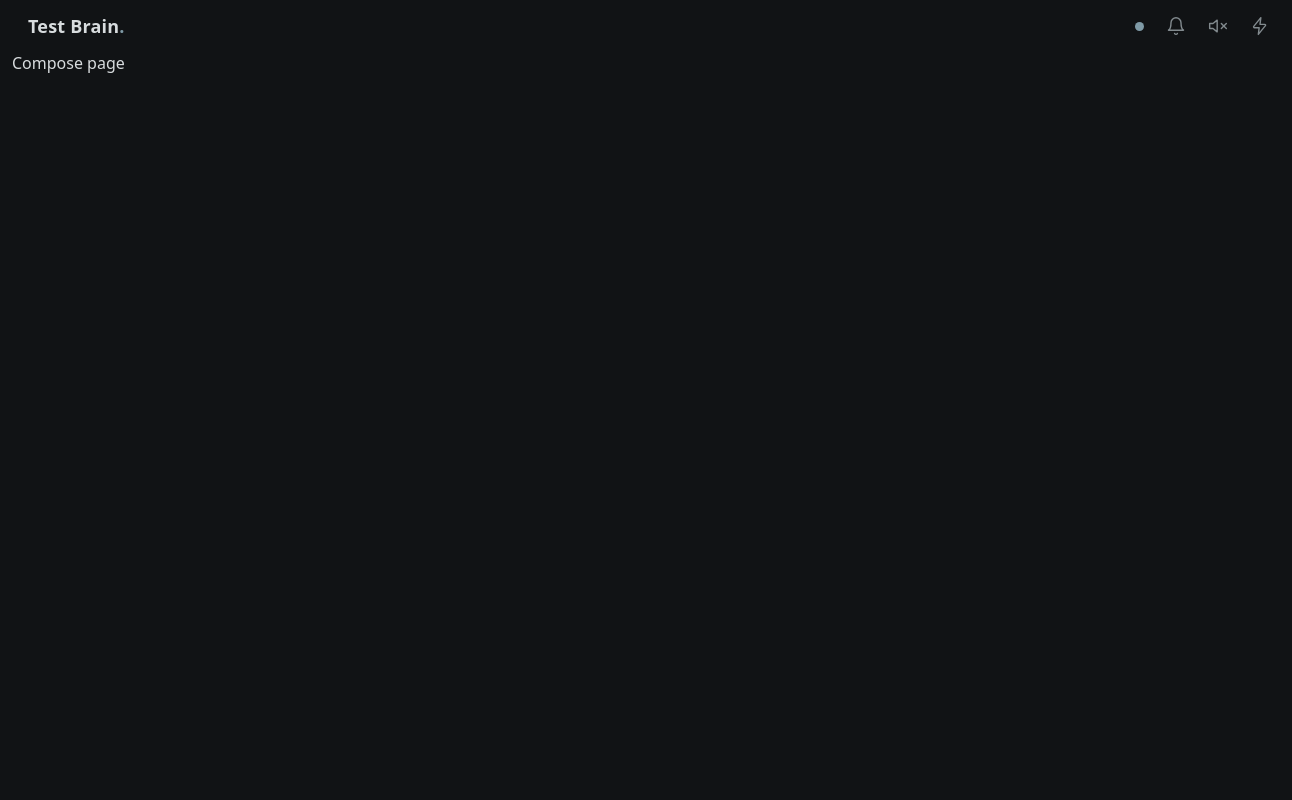
Test case: Shell — Advanced launcher navigation › the bolt navigates to /advanced and the grouped launcher grid renders
Expected: the text with test id "page" reads "Compose page", [12, 52, 125, 74]
Click the 3rd button with class "bolt": (1260, 26) [1244, 10, 1276, 42]
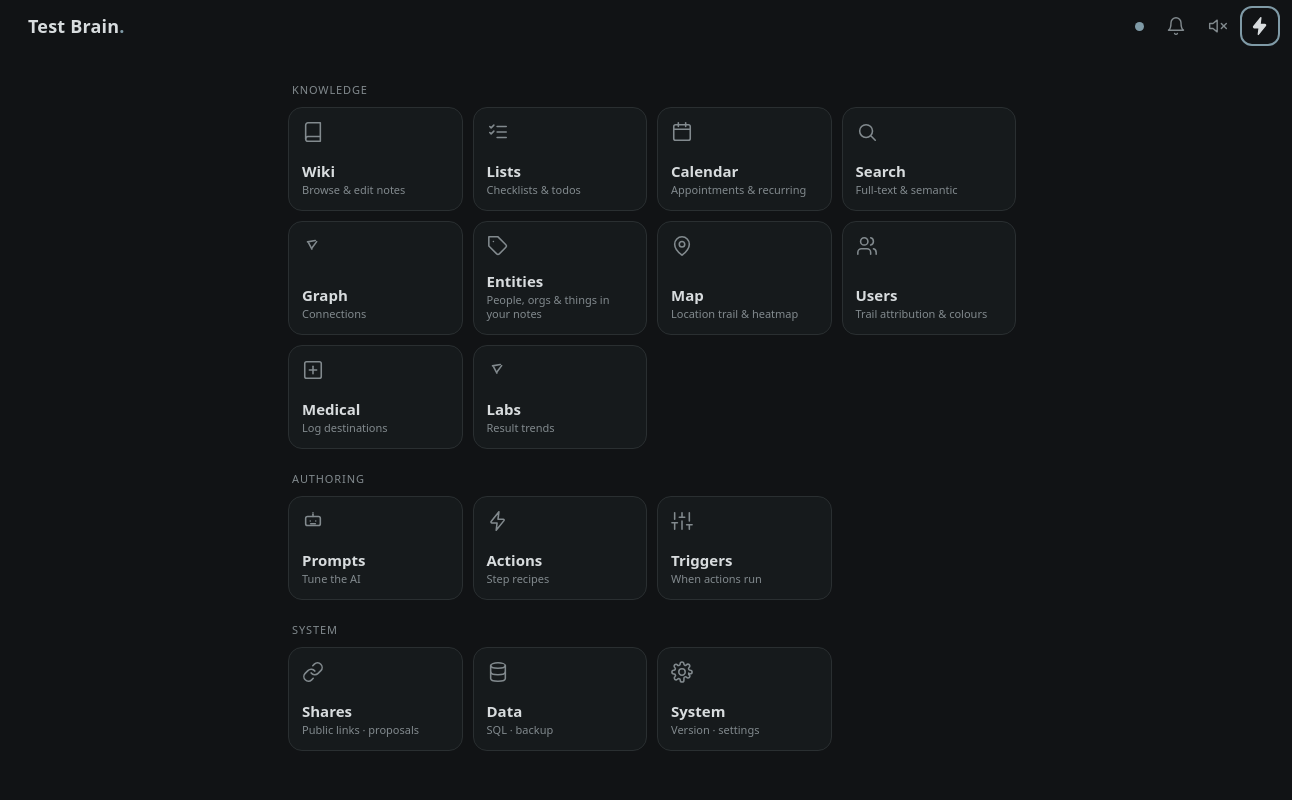
Expected: the text "Knowledge" is shown, [292, 82, 368, 97]
Expected: the button "Wiki Browse & edit notes" is shown, [288, 107, 462, 211]
Expected: the button "Triggers When actions run" is shown, [657, 496, 832, 600]
